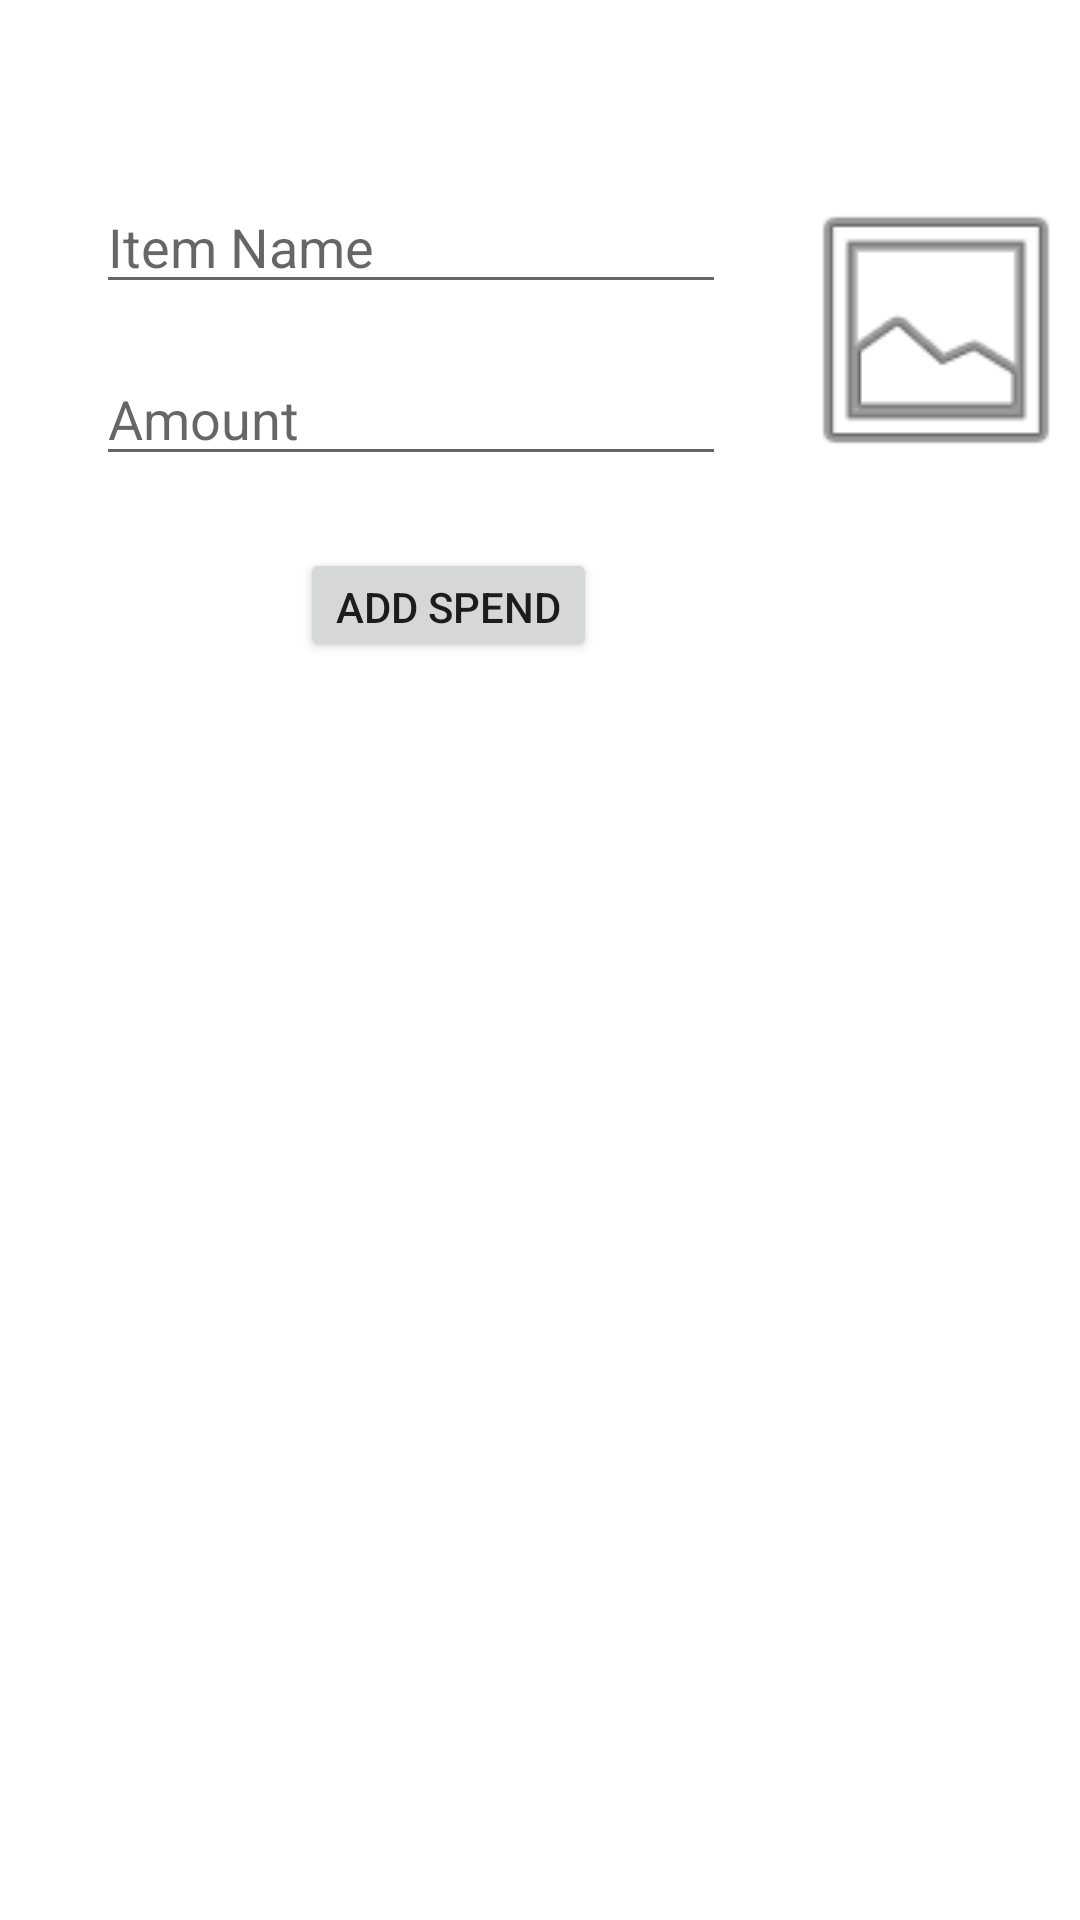

Point at icon controls on the screen. Image size 1080 x 1920, points as (x,y).
gallery: (936,330)
